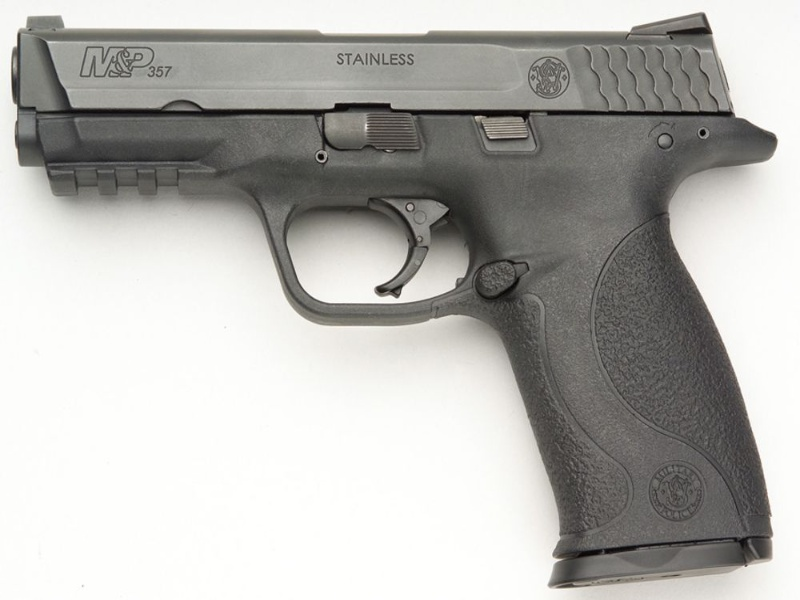gun: (5, 10, 795, 587)
